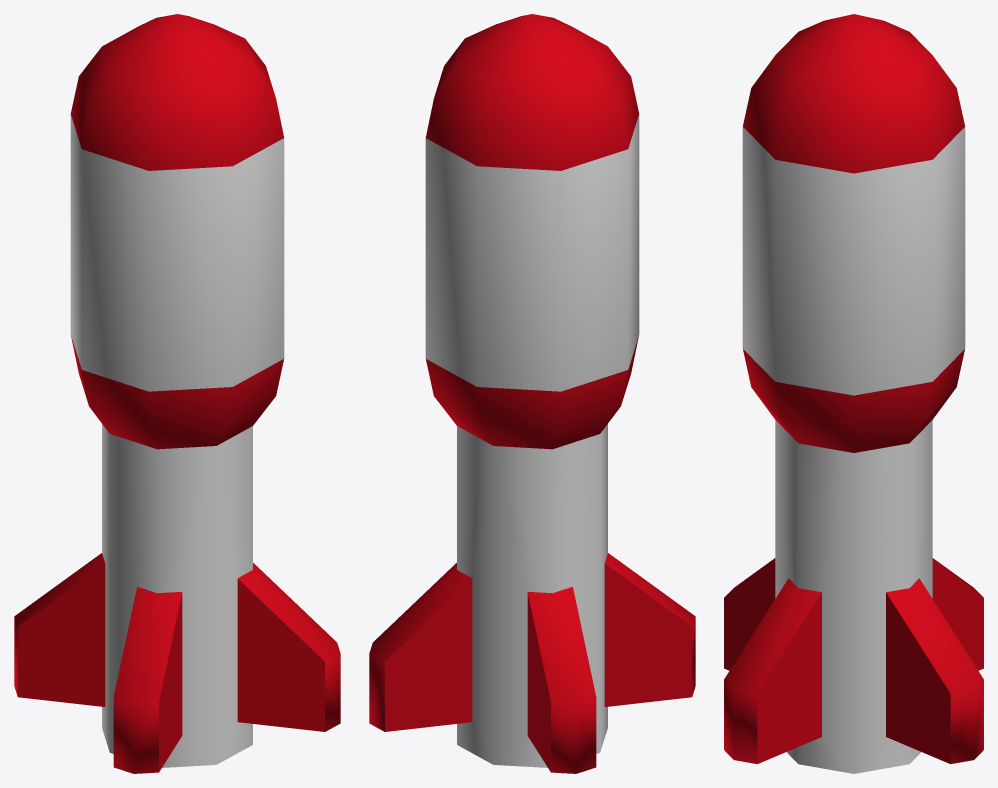
Rendered from missile.fbx.
3 renders of one model, left to right at view 1: azimuth 30°, elevation 25°; view 2: azimuth 150°, elevation 25°; view 3: azimuth 270°, elevation 25°, orthographic.
Visible parts, largest first — view 1: Sphere; view 2: Sphere; view 3: Sphere.
Part boxes in pixels (x1=…): Sphere: x1=14, y1=14, x2=340, y2=773; Sphere: x1=369, y1=14, x2=695, y2=773; Sphere: x1=724, y1=14, x2=983, y2=773.
Bounding box in the file's own units: 7.3 × 22.53 × 7.3.
